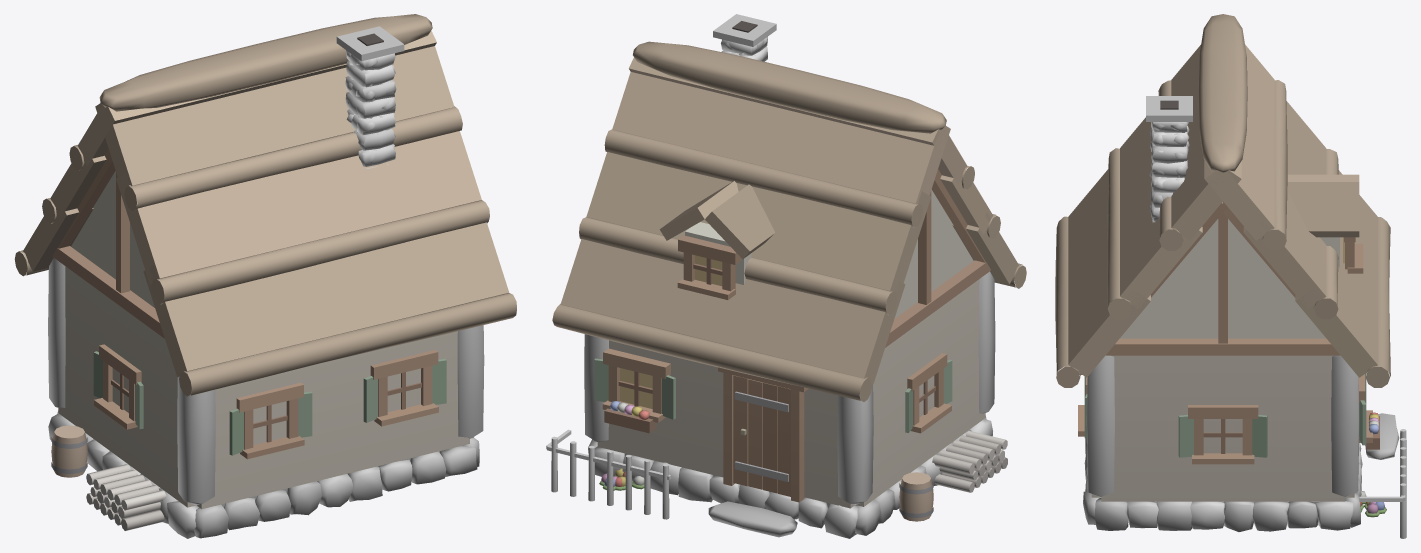
Rendered from hw_medieval_cottage.glb.
The picture shows the model from 3 angles, left to right: view 1: azimuth 30°, elevation 25°; view 2: azimuth 150°, elevation 25°; view 3: azimuth 270°, elevation 25°; orthographic projection. The views are drawn at different scales.
Parts seen in each view (by area): view 1: Building; view 2: Building; view 3: Building.
Part boxes in pixels (box(x1,y1,x2,y2)): Building: box(14, 14, 516, 538); Building: box(546, 14, 1026, 538); Building: box(1055, 14, 1406, 538).
Size of the model in its own units: 3.92 by 4.5 by 3.61.
